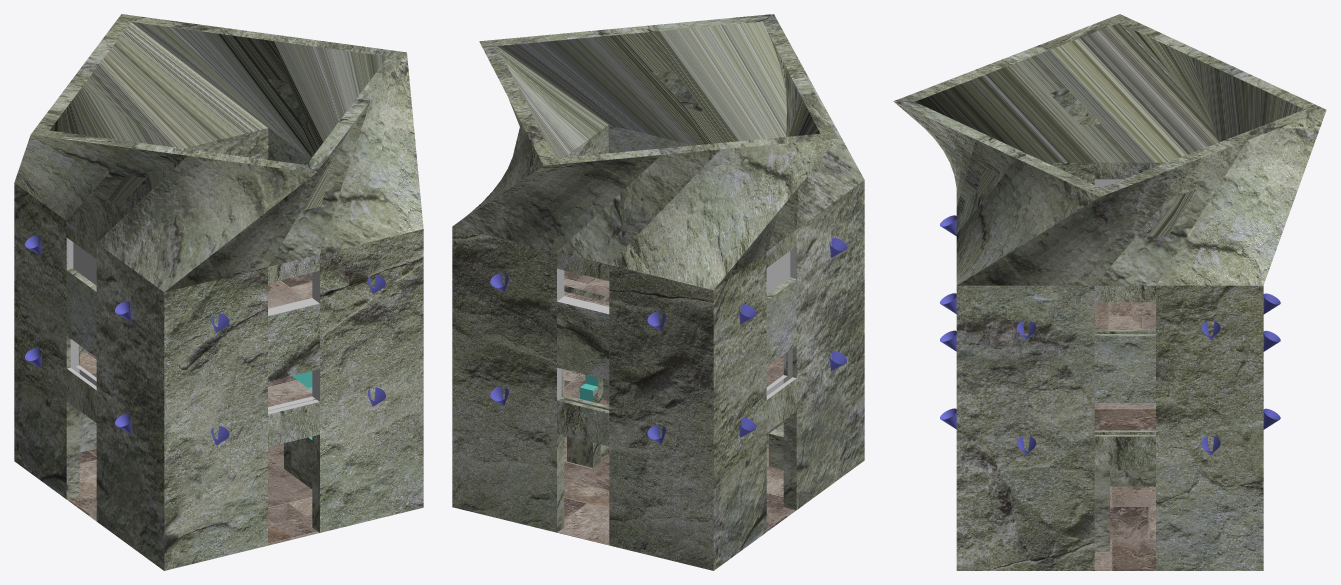
Rendered from Tower.fbx.
3 renders of one model, left to right at view 1: azimuth 30°, elevation 25°; view 2: azimuth 150°, elevation 25°; view 3: azimuth 270°, elevation 25°, orthographic. The views are drawn at different scales.
Visible parts, largest first — view 1: Plane; view 2: Plane; view 3: Plane.
Boxes of the visible parts, x1=… form: Plane: x1=14, y1=14, x2=423, y2=570; Plane: x1=452, y1=14, x2=864, y2=570; Plane: x1=893, y1=14, x2=1326, y2=570.
Bounding box in the file's own units: 2340 × 2386 × 2340.
